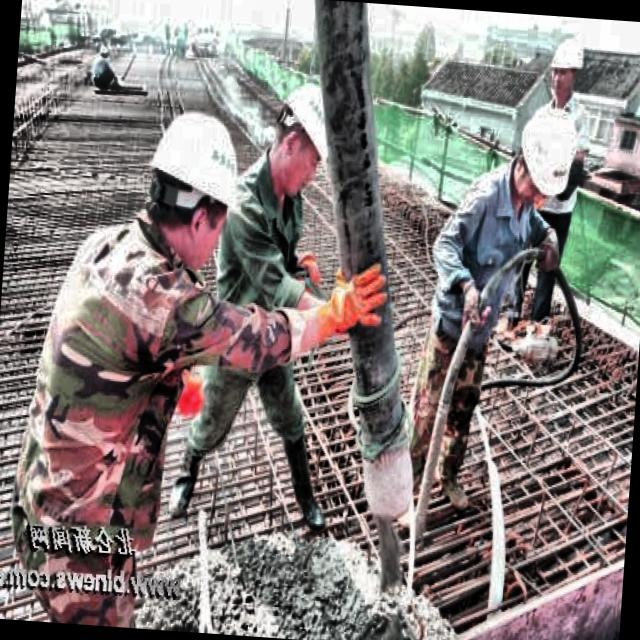helmet: (134, 96, 255, 282), (265, 72, 342, 206), (508, 95, 584, 208), (543, 30, 589, 106)
